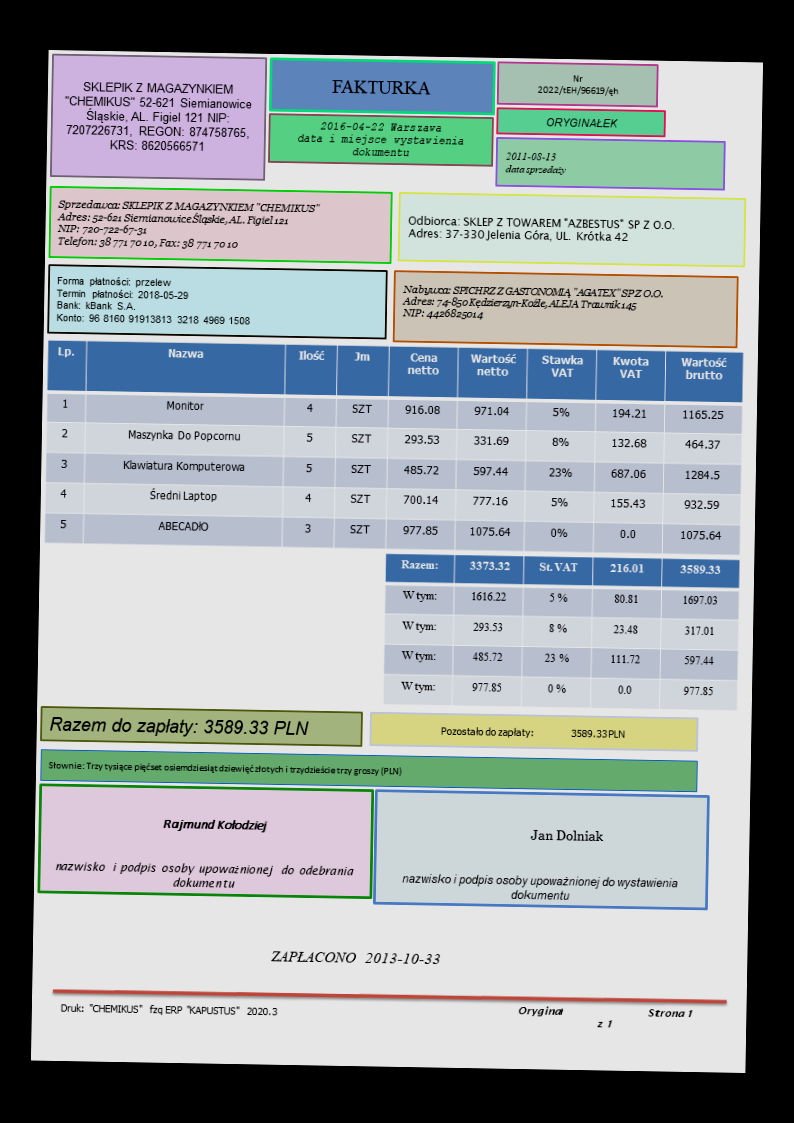Table: (43, 339, 745, 556), (382, 551, 741, 712)
TextBox: (53, 196, 324, 254), (62, 78, 255, 155), (400, 281, 666, 325), (53, 273, 252, 327), (53, 859, 355, 892), (400, 870, 679, 904), (405, 213, 677, 245), (295, 119, 467, 161), (45, 758, 403, 778), (47, 712, 311, 739), (516, 1004, 695, 1031), (59, 1000, 279, 1018), (270, 948, 441, 968), (439, 724, 625, 741), (536, 72, 621, 99), (328, 76, 432, 98), (160, 816, 268, 834), (503, 149, 567, 177), (528, 826, 607, 846), (543, 114, 620, 130)
